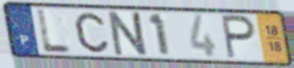1: (146, 13, 174, 57)
4: (189, 13, 221, 61)
C: (73, 11, 111, 55)
L: (35, 8, 74, 55)
N: (107, 10, 152, 59)
P: (220, 13, 258, 61)
